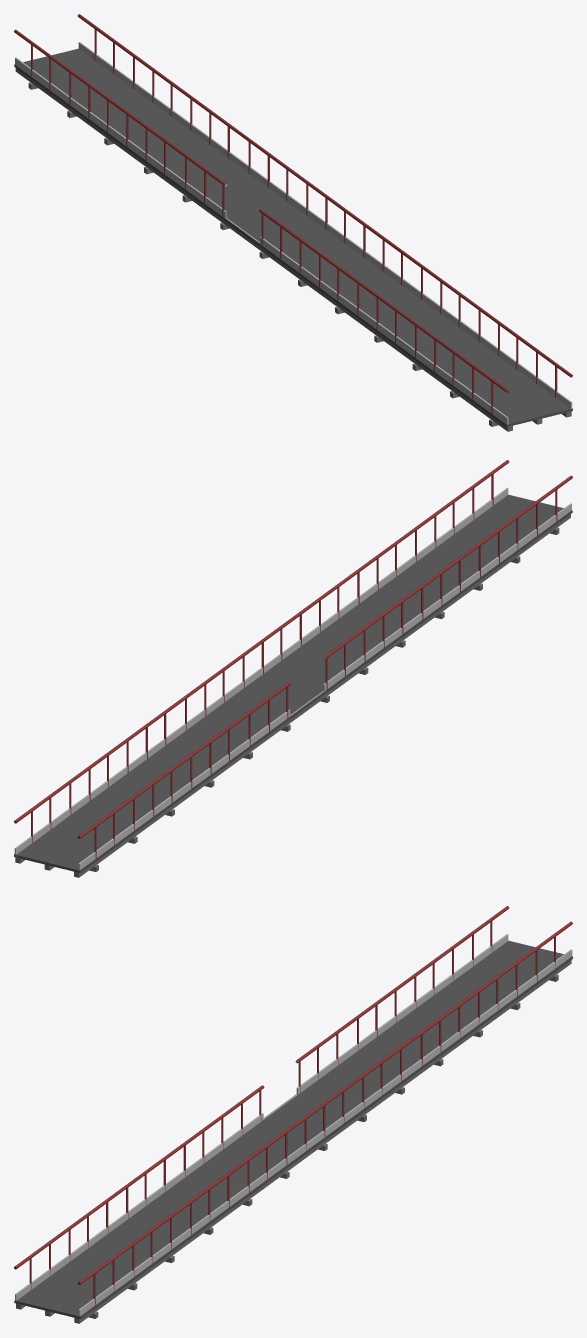
Rendered from CatwalkWithCutout.fbx.
3 views of the same model, one above another, from view 1: azimuth 30°, elevation 25°; view 2: azimuth 150°, elevation 25°; view 3: azimuth 330°, elevation 25° (orthographic).
Parts seen in each view (by area): view 1: polySurface144; view 2: polySurface144; view 3: polySurface144.
Boxes of the visible parts, x1,y1,x2,y2 form: polySurface144: (14,14,572,431); polySurface144: (14,460,572,877); polySurface144: (14,906,572,1323).
Size of the model in its own units: 3.25 by 2.13 by 40.76.
